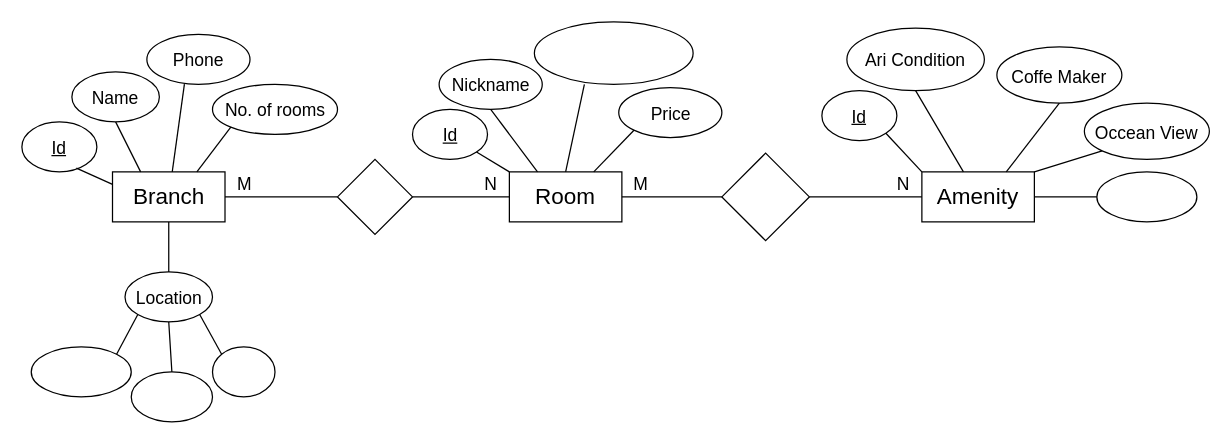
Image size: 1231x444. Some labels were removed from this diagram. Each missing label, with the box of its shape:
Address: (30, 346, 131, 397)
City: (130, 371, 212, 422)
HAS: (336, 158, 412, 234)
Mini Bar: (1096, 171, 1197, 222)
No. of bedrooms: (533, 21, 693, 84)
OFFER: (721, 152, 809, 241)
State: (211, 346, 275, 397)
